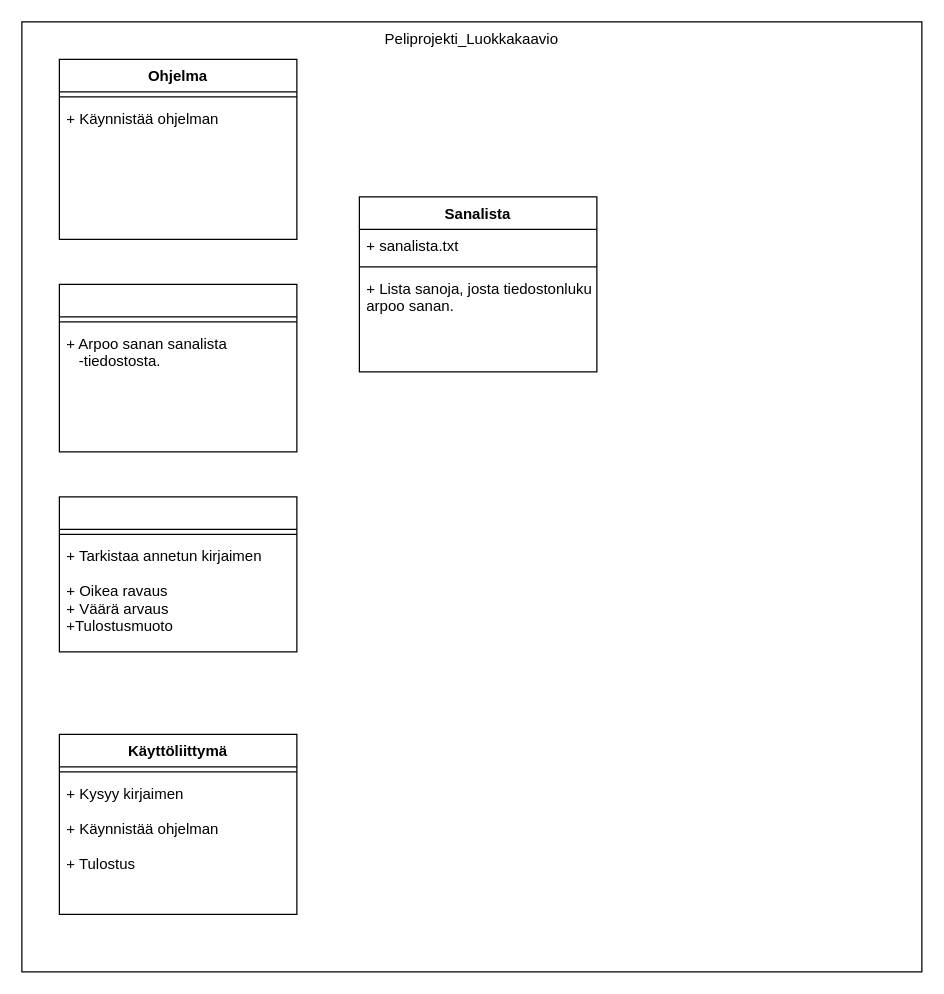
The diagram is 944 pixels wide and 994 high, and some of its shapes have lost their labels. The box of each missing label's shape, as (x1, y1, x2, y2) in pixels:
Hirsipuu: (58, 496, 297, 652)
Tiedostonluku: (58, 283, 297, 452)
